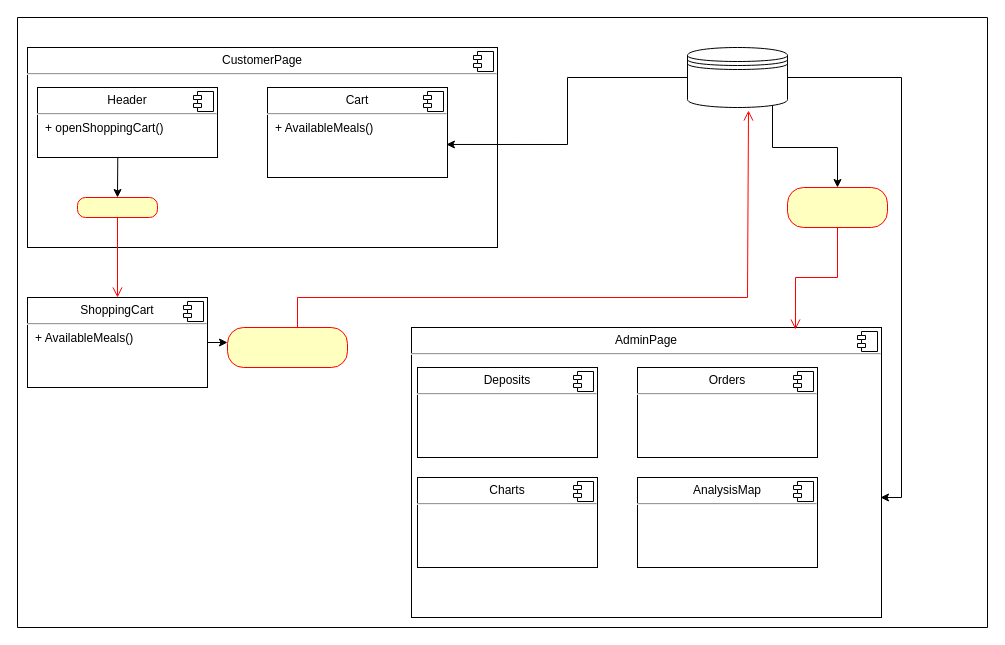
This 1005x645 diagram has some shape labels left out. The centre of each missing label's shape, as x and y in pixels:
aggregates data: the point at 837,207
ECommerceDB: the point at 737,77
opens: the point at 117,207
sends data: the point at 287,347
